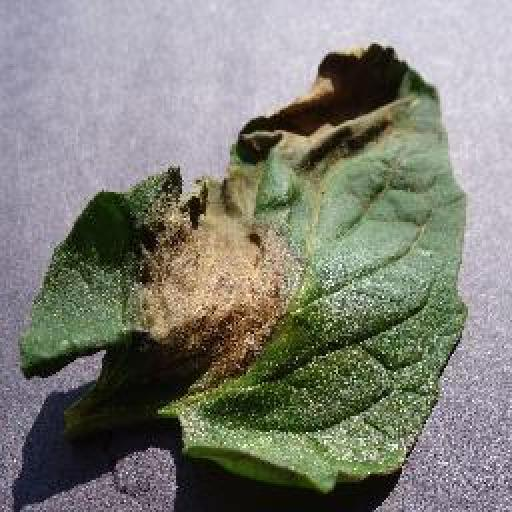Late Blight: (16, 40, 471, 491)
